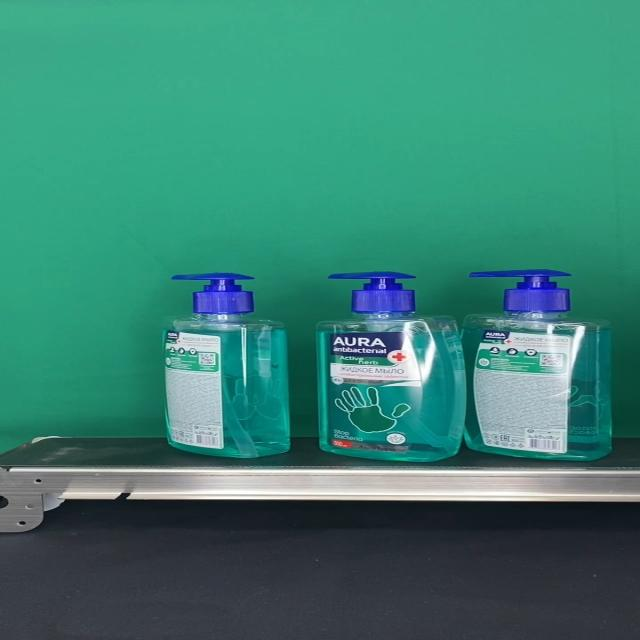Bottle: (460, 270, 612, 461), (315, 270, 466, 462), (161, 272, 291, 458)
Cap: (468, 270, 572, 312), (326, 270, 416, 312), (169, 272, 255, 313)
